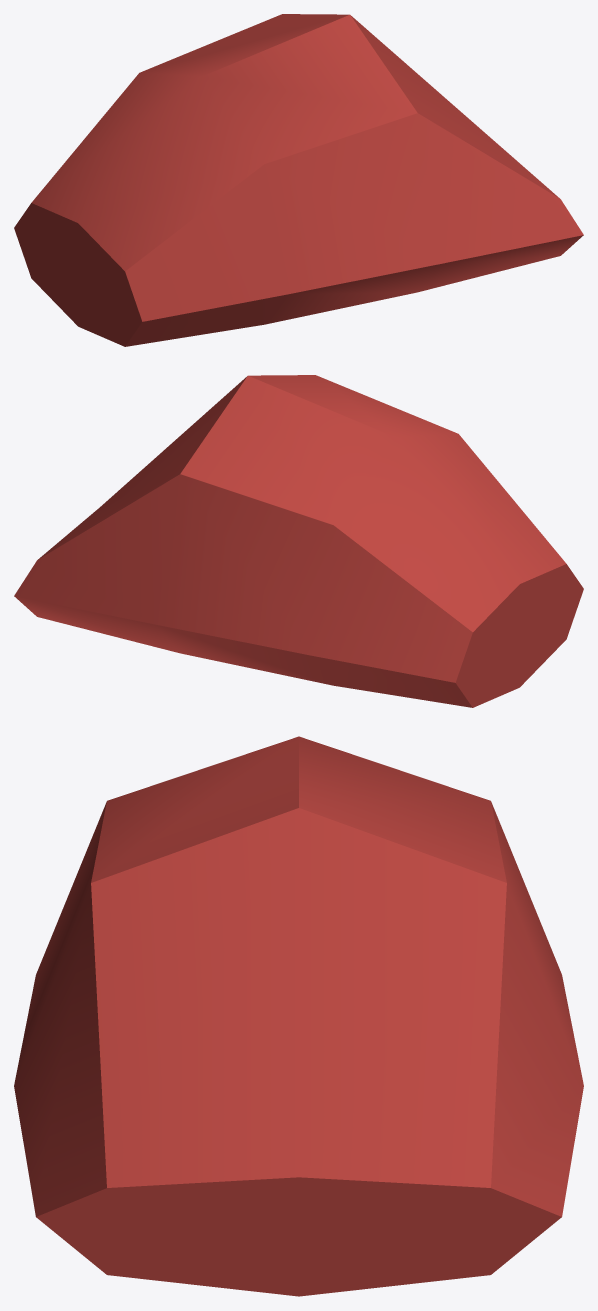
The model's file is solo_lod2.glb.
3 views of the same model, one above another, from view 1: azimuth 30°, elevation 25°; view 2: azimuth 150°, elevation 25°; view 3: azimuth 270°, elevation 25° (orthographic). The views are drawn at different scales.
Parts seen in each view (by area): view 1: solo_lod2; view 2: solo_lod2; view 3: solo_lod2.
Boxes of the visible parts, x1,y1,x2,y2 form: solo_lod2: (14,14,583,346); solo_lod2: (14,375,583,707); solo_lod2: (14,736,583,1296).
Size of the model in its own units: 0.34 by 0.19 by 0.26.
